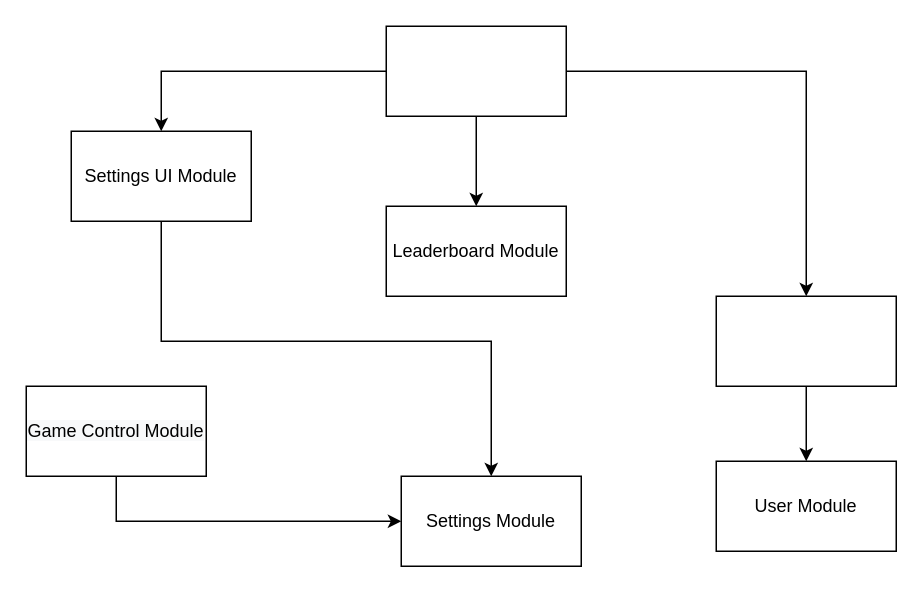
Some shapes in this 923 by 593 pixel diagram are drawn without their labels. Each missing label, with the box of its shape:
Main GUI Module: (385, 25, 566, 116)
User GUI Module: (715, 295, 896, 386)
